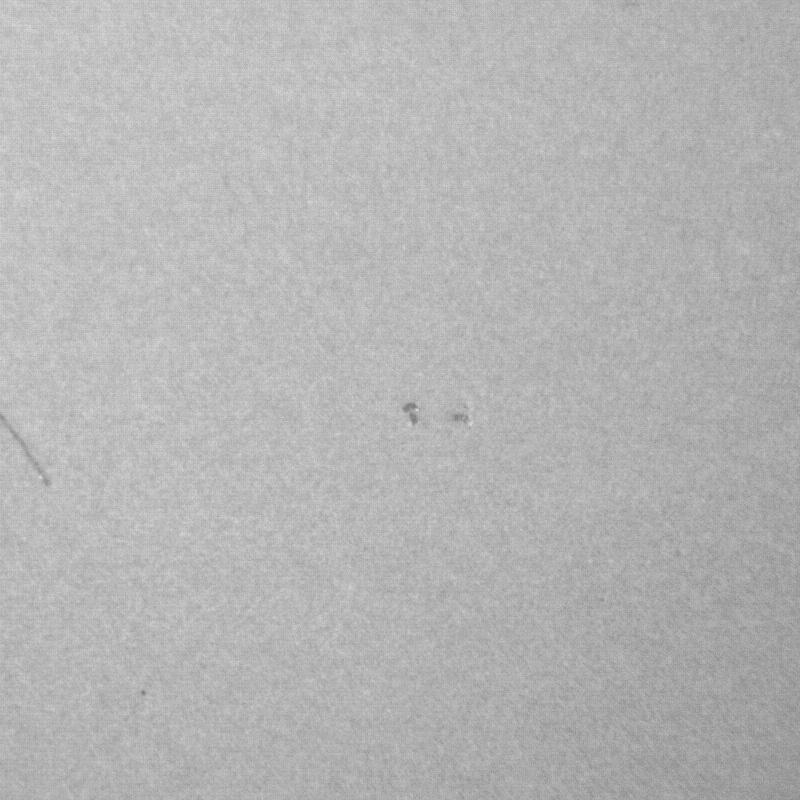defect: (3, 418, 54, 492), (397, 403, 425, 430), (450, 411, 477, 426), (137, 686, 152, 701)
